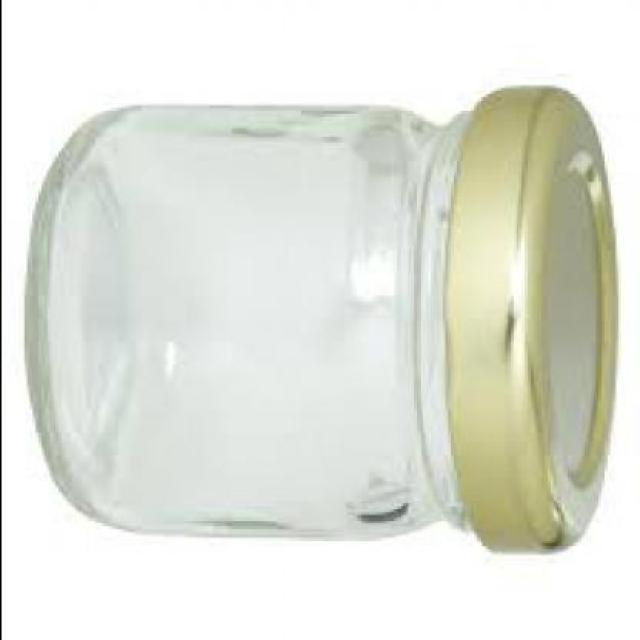GLASS: (23, 102, 472, 535)
METAL: (449, 79, 620, 552)
